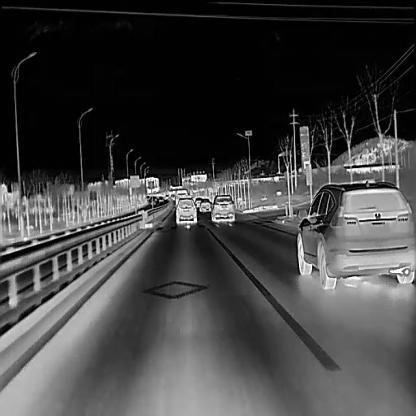car: (295, 177, 415, 290), (209, 193, 234, 222), (173, 196, 196, 225), (175, 189, 187, 206), (198, 198, 210, 212), (194, 197, 202, 207), (158, 196, 164, 201), (150, 199, 155, 204)
